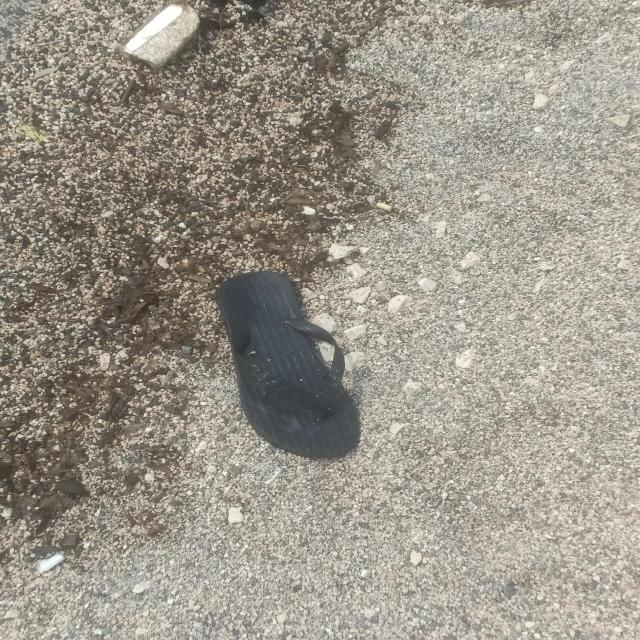rubber_waste: (218, 273, 362, 460)
